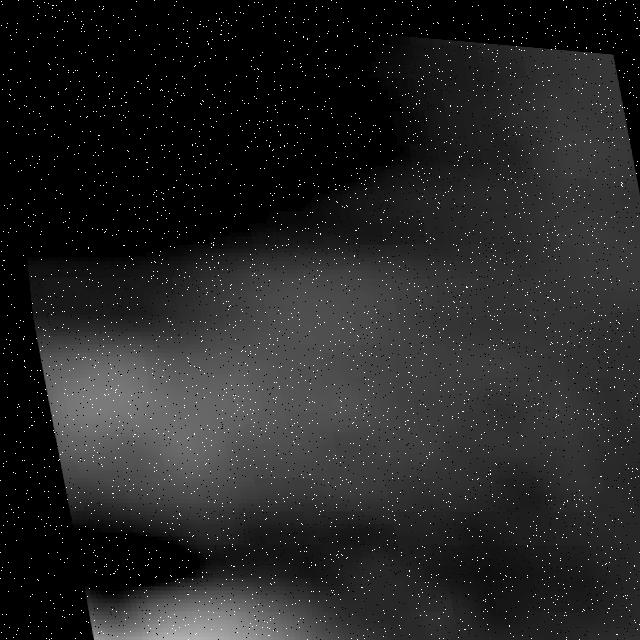person: (66, 541, 439, 640)
